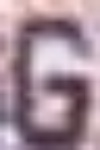G: (0, 0, 99, 149)
